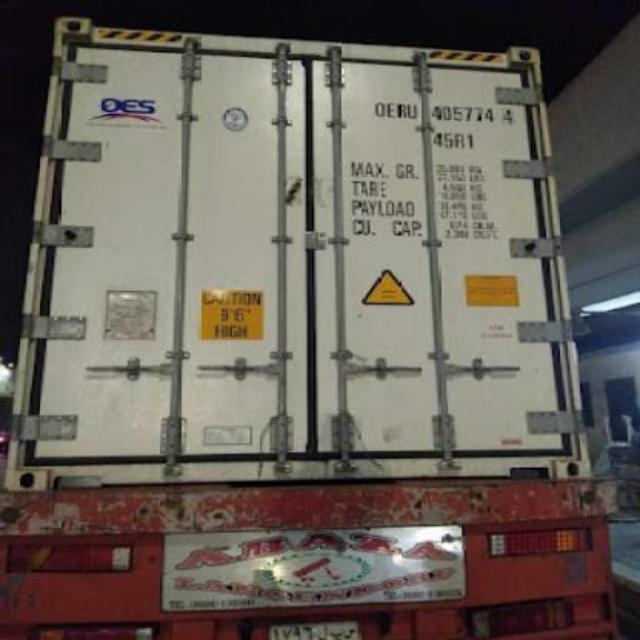0: (444, 105, 452, 121)
4: (500, 108, 516, 124), (430, 103, 442, 121), (486, 108, 496, 122)
5: (452, 103, 462, 121)
7: (474, 105, 486, 121), (464, 108, 474, 120)
E: (386, 100, 396, 118)
O: (374, 100, 386, 116)
R: (396, 102, 408, 120)
U: (406, 104, 418, 120)
